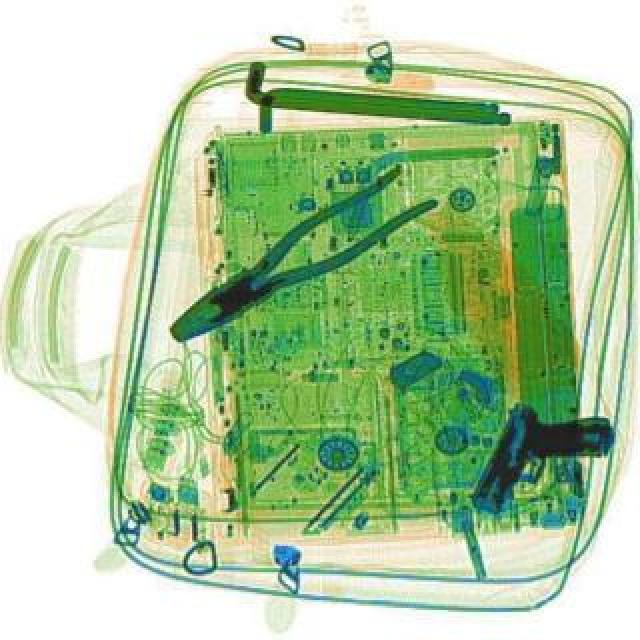gun: (464, 382, 628, 546)
wrench: (160, 158, 444, 362)
